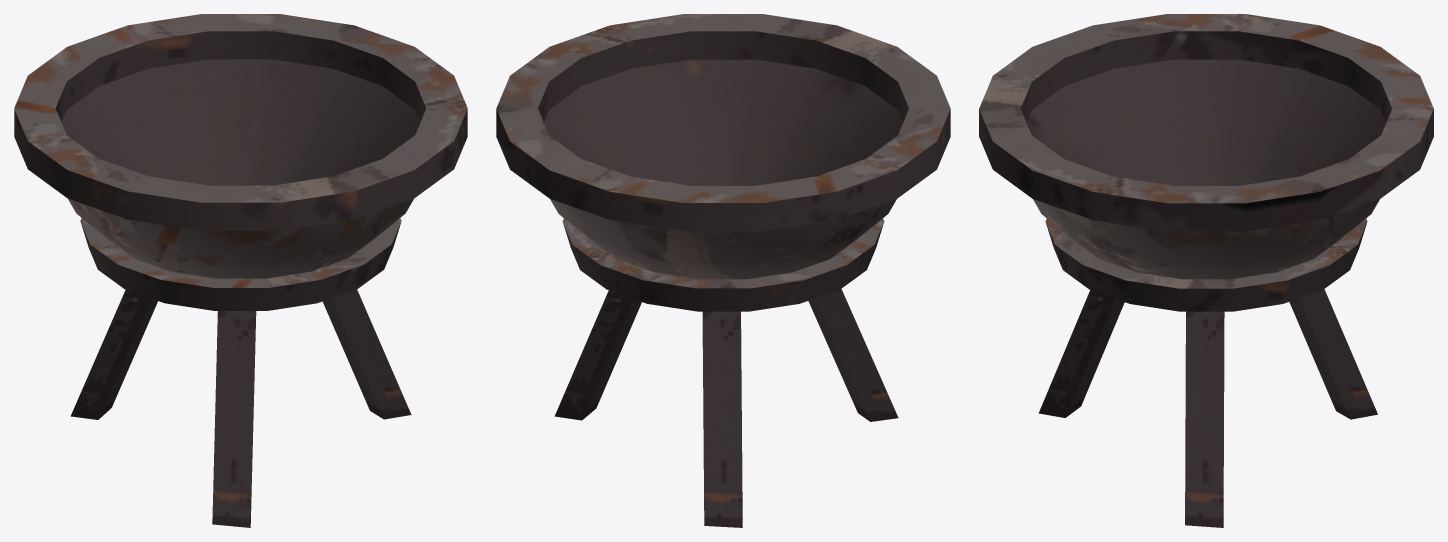
File: BloodRoom_Cauldron.fbx
The picture shows the model from 3 angles, left to right: view 1: azimuth 30°, elevation 25°; view 2: azimuth 150°, elevation 25°; view 3: azimuth 270°, elevation 25°; orthographic projection.
Parts seen in each view (by area): view 1: Sphere.001; view 2: Sphere.001; view 3: Sphere.001.
Part boxes in pixels (left/top/right/bottom): Sphere.001: left=14, top=14, right=467, bottom=527; Sphere.001: left=496, top=14, right=950, bottom=527; Sphere.001: left=979, top=14, right=1433, bottom=527.
Bounding box in the file's own units: 91.24 × 76.67 × 92.65.
